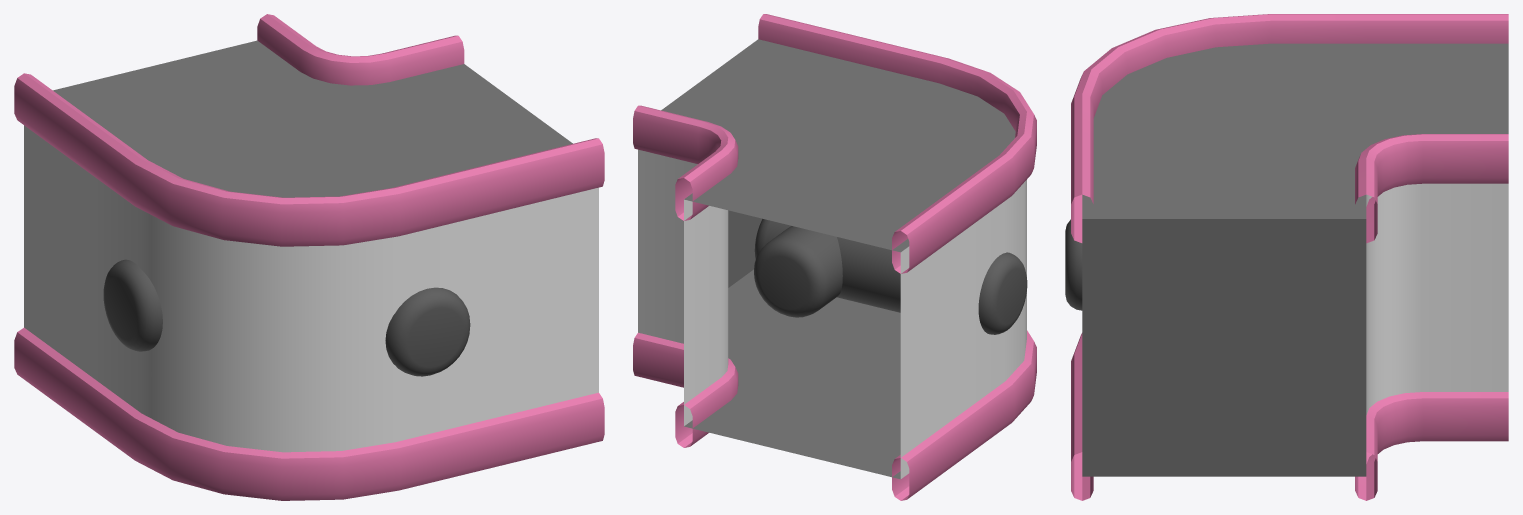
Rendered from parca6.fbx.
The picture shows the model from 3 angles, left to right: view 1: azimuth 30°, elevation 25°; view 2: azimuth 150°, elevation 25°; view 3: azimuth 270°, elevation 25°; orthographic projection. The views are drawn at different scales.
Visible parts, largest first — view 1: 6; view 2: 6; view 3: 6.
Boxes of the visible parts, left/top/right/bottom form: 6: left=14, top=14, right=604, bottom=500; 6: left=633, top=14, right=1036, bottom=500; 6: left=1065, top=14, right=1508, bottom=500.
Bounding box in the file's own units: 3.11 × 2.38 × 3.12.
